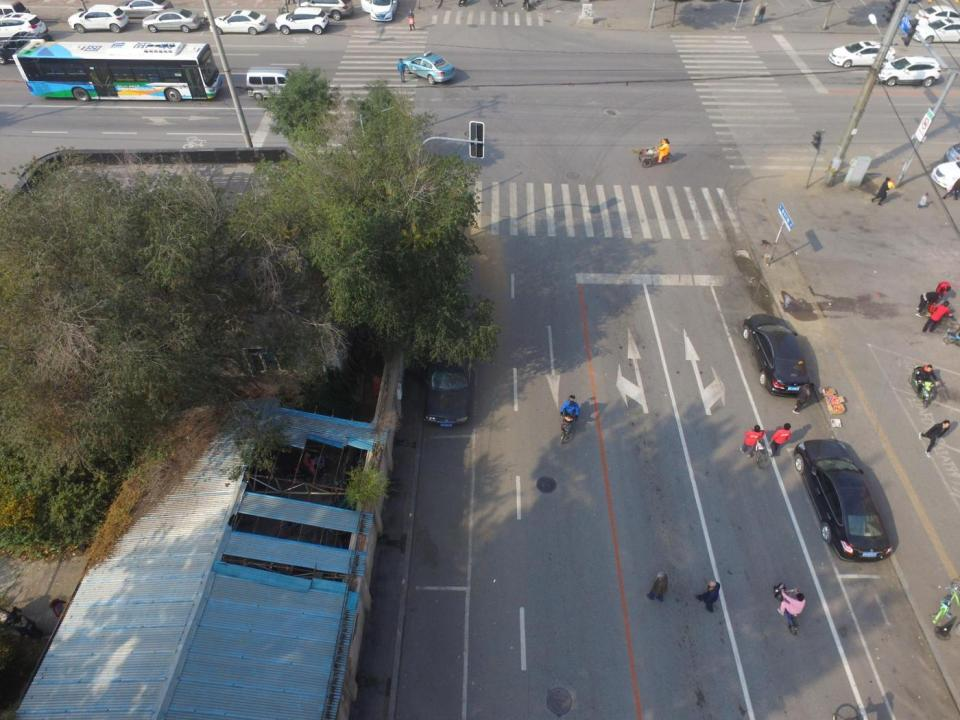bus: (12, 38, 222, 103)
car: (792, 438, 892, 563), (742, 313, 810, 397), (424, 336, 474, 428), (875, 55, 942, 88), (66, 3, 130, 33), (828, 40, 896, 68), (400, 50, 455, 84), (0, 31, 55, 65), (274, 6, 330, 35), (209, 10, 270, 36), (142, 8, 202, 34), (0, 12, 48, 43), (910, 18, 960, 44), (110, 0, 174, 19), (914, 4, 960, 23), (360, 0, 398, 22)
van: (246, 66, 302, 101)
